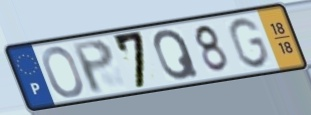7: (110, 30, 151, 92)
8: (194, 23, 231, 75)
G: (226, 16, 272, 70)
O: (41, 45, 86, 100)
P: (69, 37, 117, 96)
Q: (152, 28, 202, 82)
